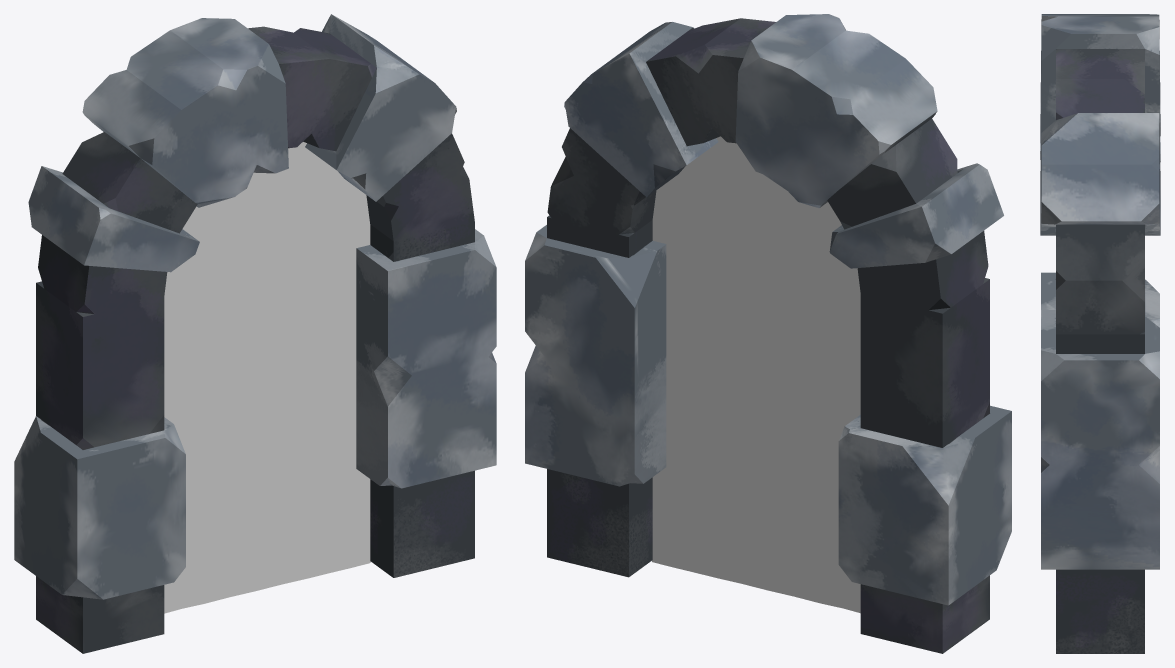
File: Teleportereingang.fbx
3 renders of one model, left to right at view 1: azimuth 30°, elevation 25°; view 2: azimuth 150°, elevation 25°; view 3: azimuth 270°, elevation 25°, orthographic. The views are drawn at different scales.
Visible parts, largest first — view 1: Plane.001, Circle, Plane; view 2: Plane.001, Circle, Plane; view 3: Plane.001, Plane.
Boxes of the visible parts, left/top/right/bottom form: Plane.001: left=14, top=14, right=496, bottom=599; Circle: left=164, top=142, right=370, bottom=613; Plane: left=36, top=26, right=474, bottom=653; Plane.001: left=525, top=14, right=1011, bottom=605; Circle: left=652, top=136, right=860, bottom=613; Plane: left=547, top=18, right=989, bottom=653; Plane.001: left=1040, top=14, right=1160, bottom=569; Plane: left=1056, top=49, right=1144, bottom=653.
Bounding box in the file's own units: 675 × 861 × 177.
Materials: 3 (2 with a texture image).
